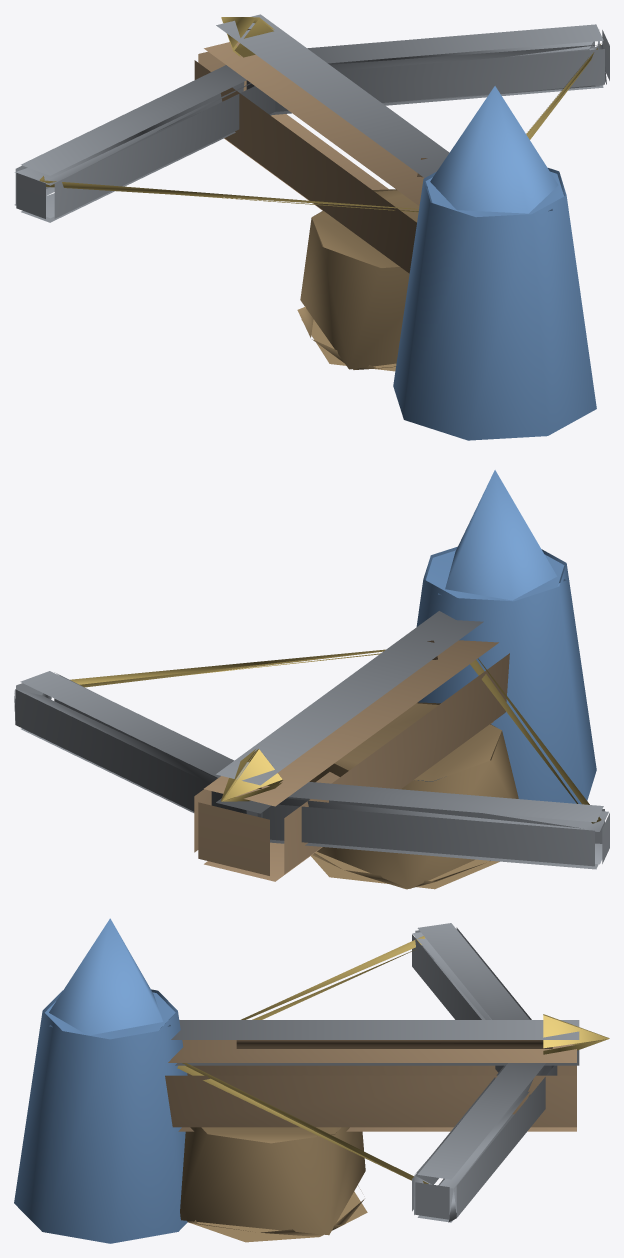
Rendered from quill_archer_turret_lod2.glb.
The picture shows the model from 3 angles, top to bottom: view 1: azimuth 30°, elevation 25°; view 2: azimuth 150°, elevation 25°; view 3: azimuth 270°, elevation 25°; orthographic projection. The views are drawn at different scales.
Visible parts, largest first — view 1: quill_archer_turret.001; view 2: quill_archer_turret.001; view 3: quill_archer_turret.001.
Part boxes in pixels (x1,y1,x2,y2): quill_archer_turret.001: [14, 14, 609, 440]; quill_archer_turret.001: [14, 470, 609, 889]; quill_archer_turret.001: [14, 918, 609, 1243].
Bounding box in the file's own units: 1.3 × 0.6637 × 1.26.
